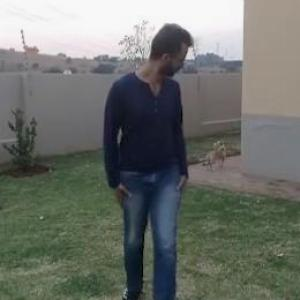follow: (102, 18, 199, 299)
